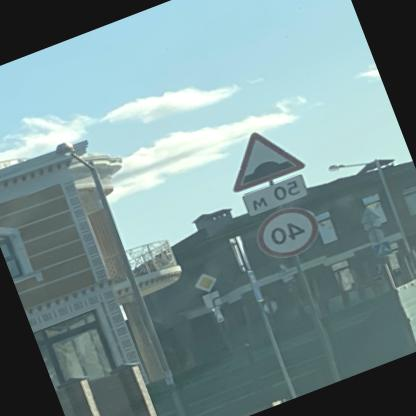crosswalk: (373, 238, 395, 256)
speedlimit: (252, 197, 330, 264)
